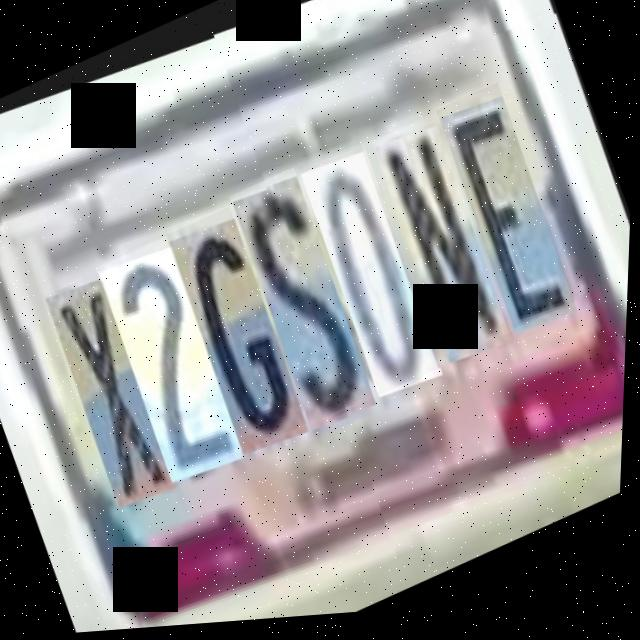2: (92, 234, 254, 490)
E: (431, 85, 585, 342)
G: (161, 205, 317, 461)
N: (367, 115, 521, 371)
O: (294, 140, 452, 406)
S: (224, 167, 387, 437)
X: (40, 268, 187, 514)
